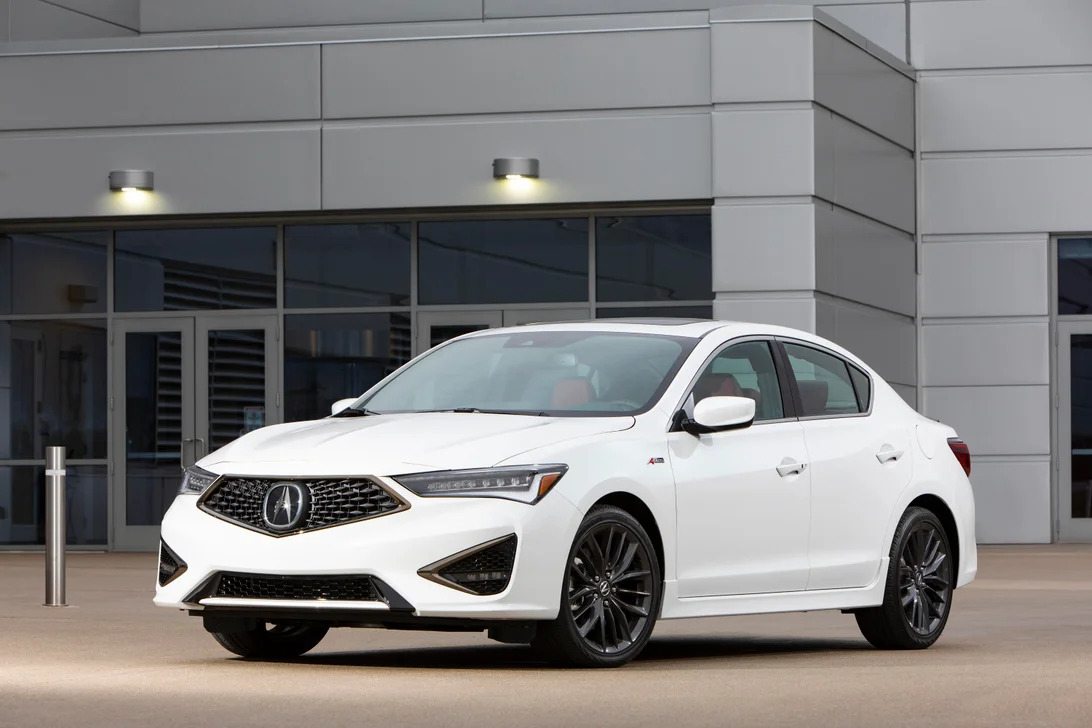Fog Lamp & Scope: (435, 547, 517, 592)
Front: (154, 424, 633, 612)
Front Bumper: (155, 534, 568, 612)
Grill: (209, 482, 395, 534)
Headlight: (404, 466, 571, 503)
